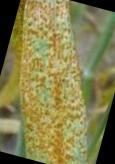Wheat: (27, 2, 72, 159)
